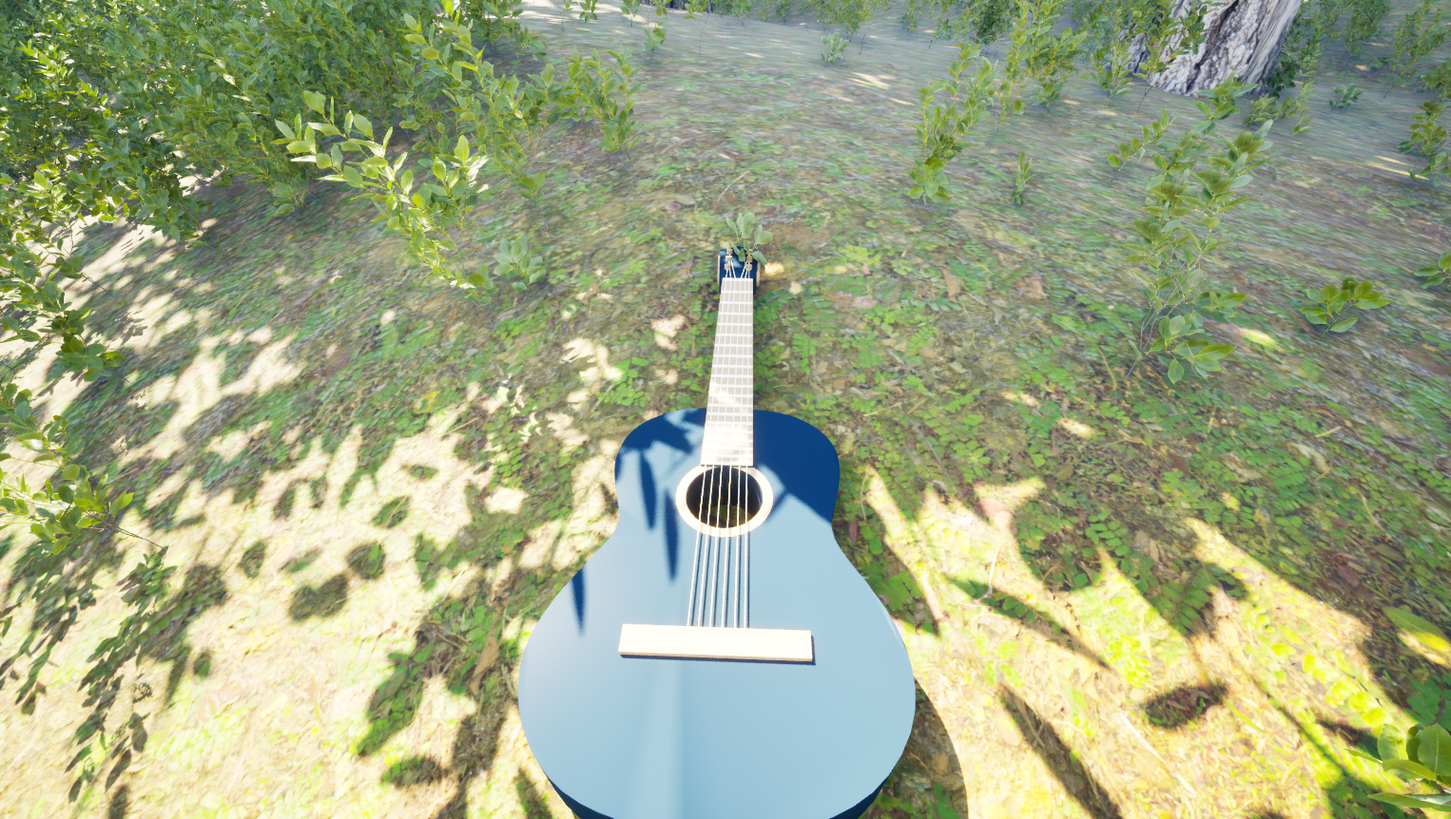Guitar: (473, 232, 947, 819)
